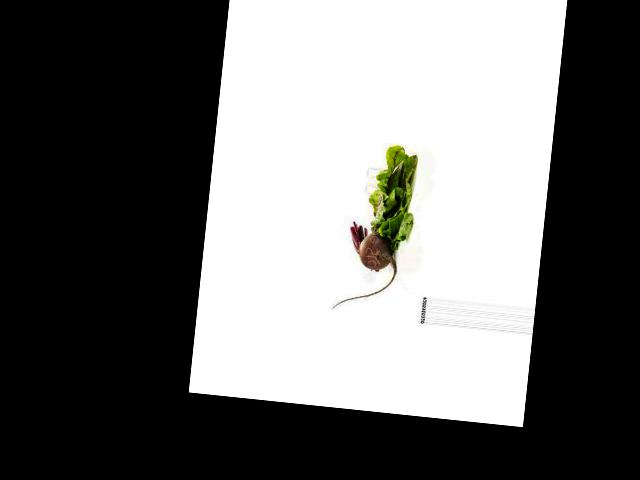beet: (331, 219, 401, 316)
